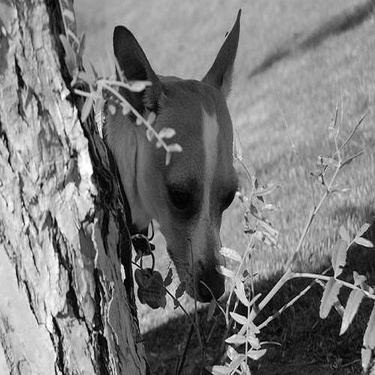dog: (62, 10, 257, 317)
